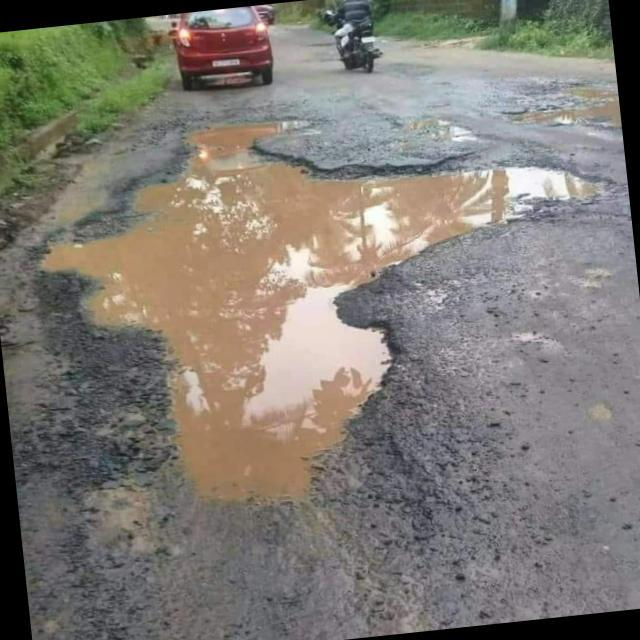Pothole: (0, 48, 640, 616), (482, 37, 624, 162)
